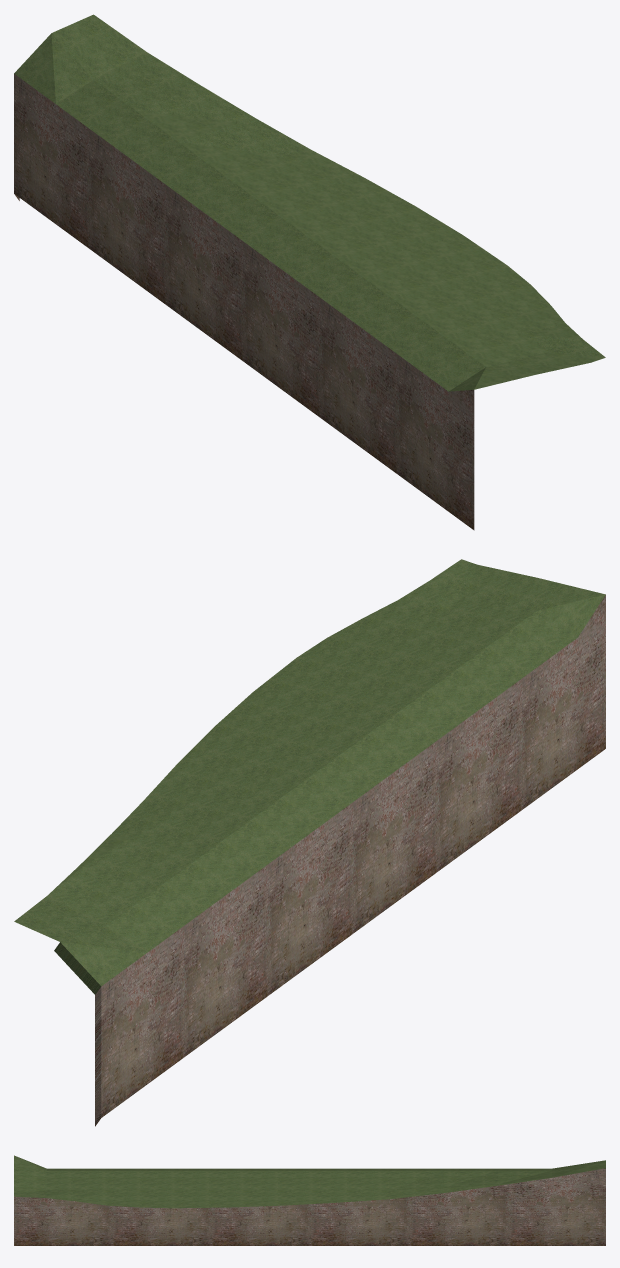
The model's file is sf_landbut02.obj.
3 views of the same model, one above another, from view 1: azimuth 30°, elevation 25°; view 2: azimuth 150°, elevation 25°; view 3: azimuth 270°, elevation 25° (orthographic). The views are drawn at different scales.
Visible parts, largest first — view 1: sf_landbut02; view 2: sf_landbut02; view 3: sf_landbut02.
Part boxes in pixels (left/top/right/bottom): sf_landbut02: left=14, top=14, right=605, bottom=530; sf_landbut02: left=14, top=559, right=605, bottom=1126; sf_landbut02: left=14, top=1155, right=605, bottom=1245.
Bounding box in the file's own units: 43.4 × 44.41 × 219.
2 materials, 2 textured.
